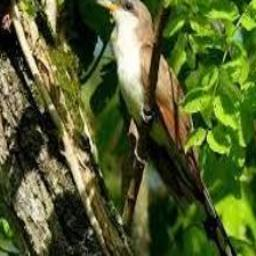Cuckoo: (96, 0, 239, 256)
